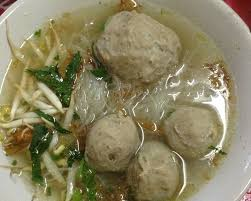bakso: (78, 33, 230, 196)
